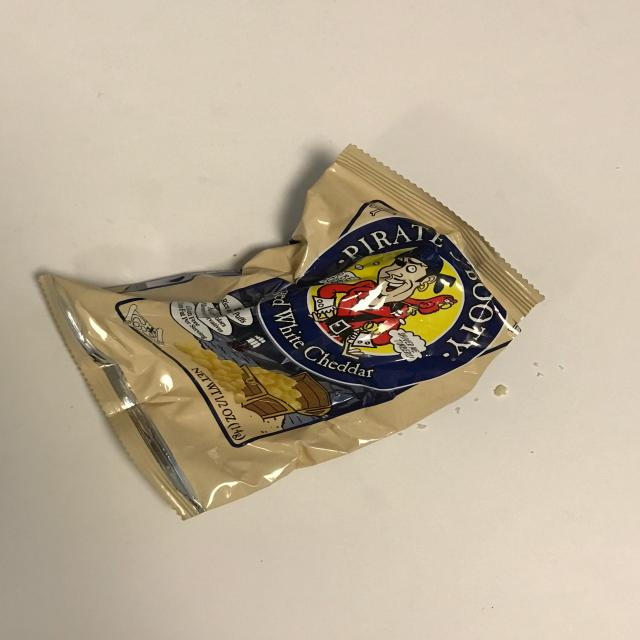trash: (37, 143, 545, 520)
